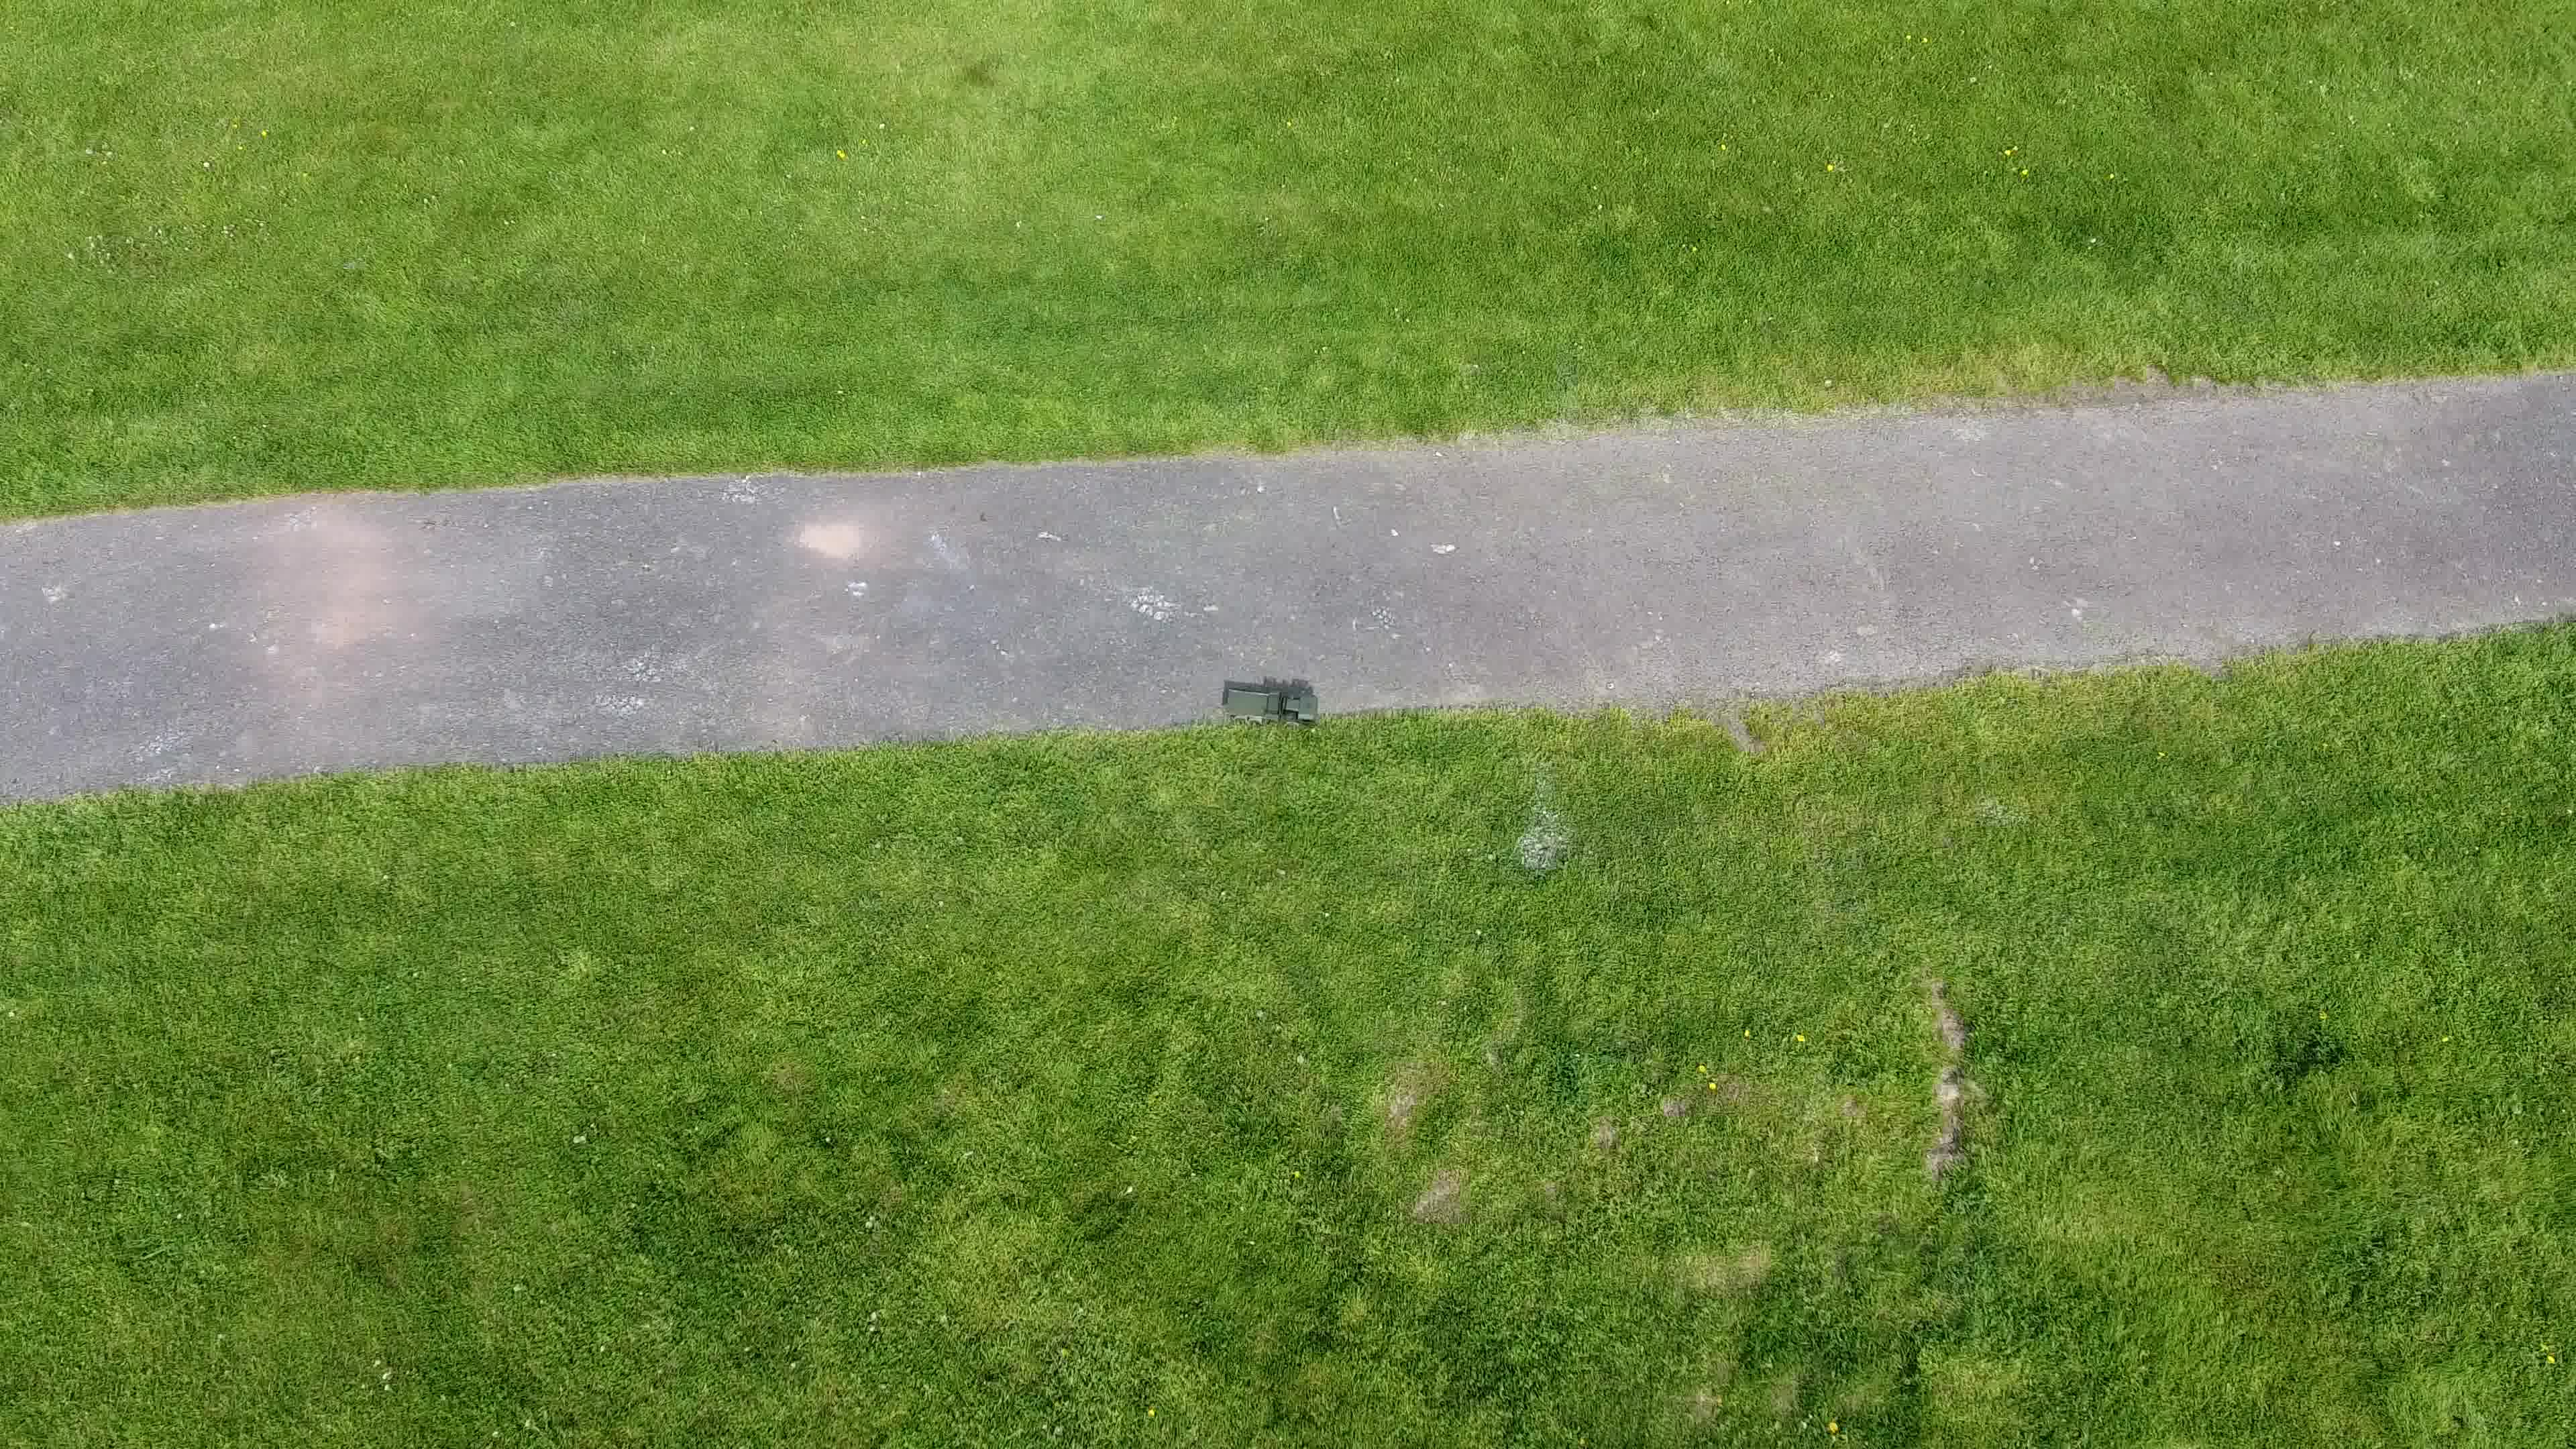transporter9: (1219, 679, 1323, 732)
